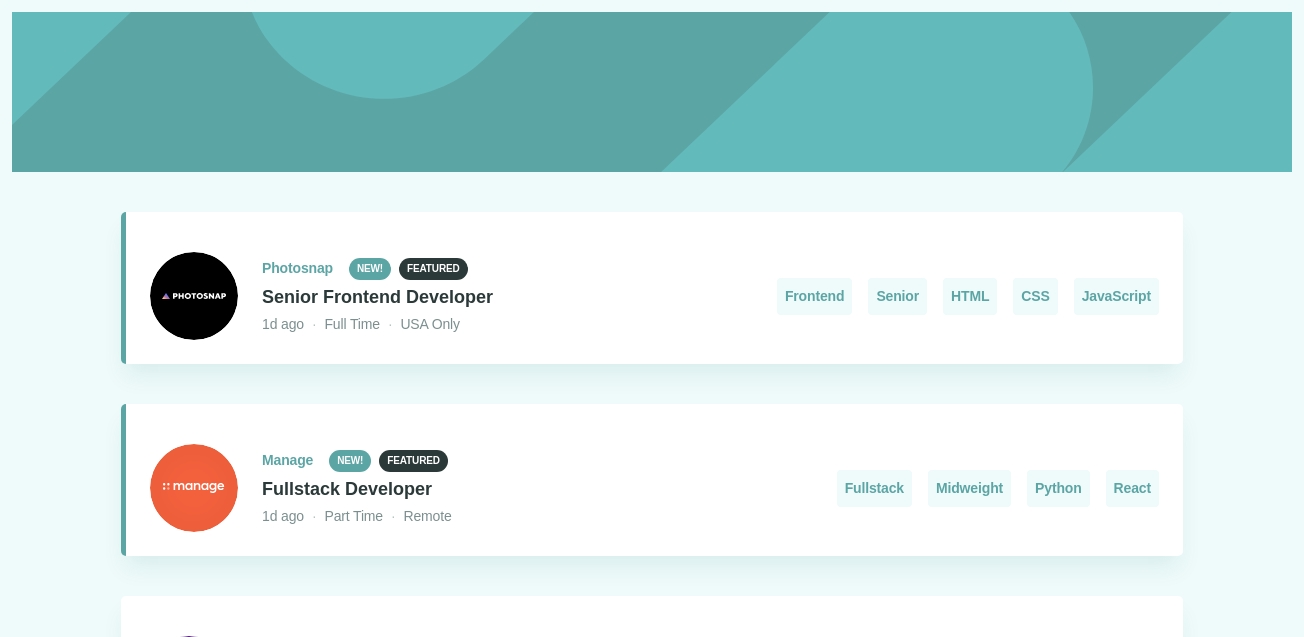
Job Listings App › shows multiple filter chips in the filter bar
Click the button "Frontend" in the row of "Senior Frontend Developer".
click(815, 297)  # box 777,278 -> 853,315
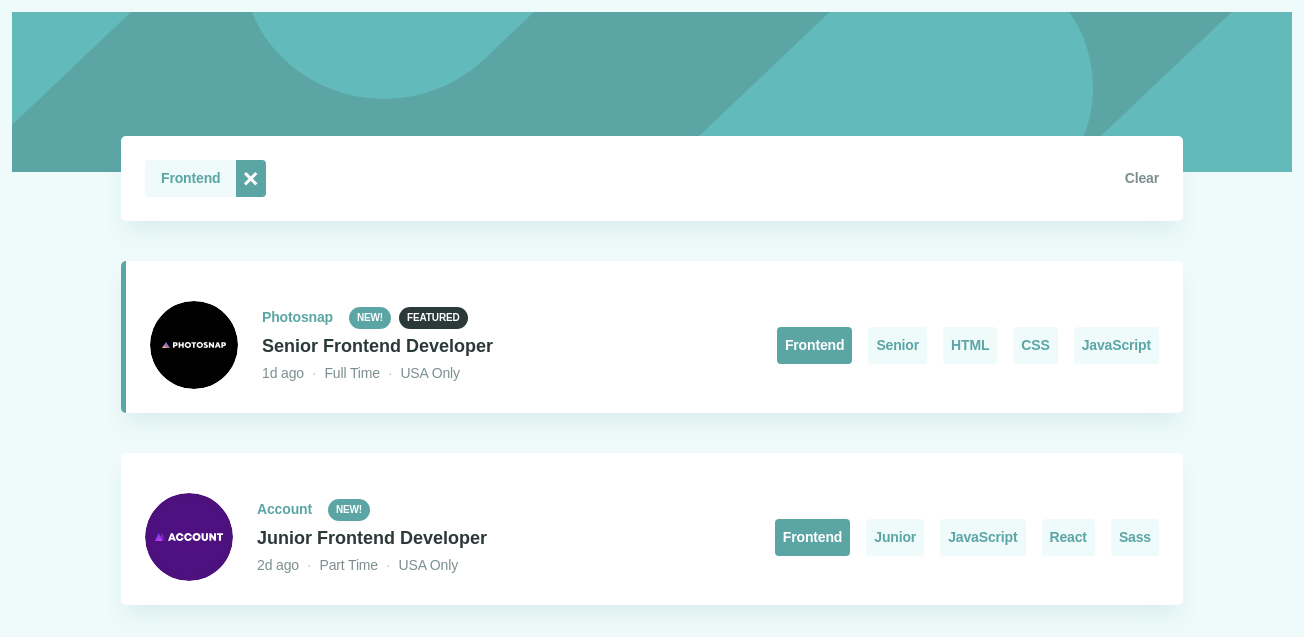
Click the button "Senior".
click(898, 346)  # box 868,327 -> 927,364
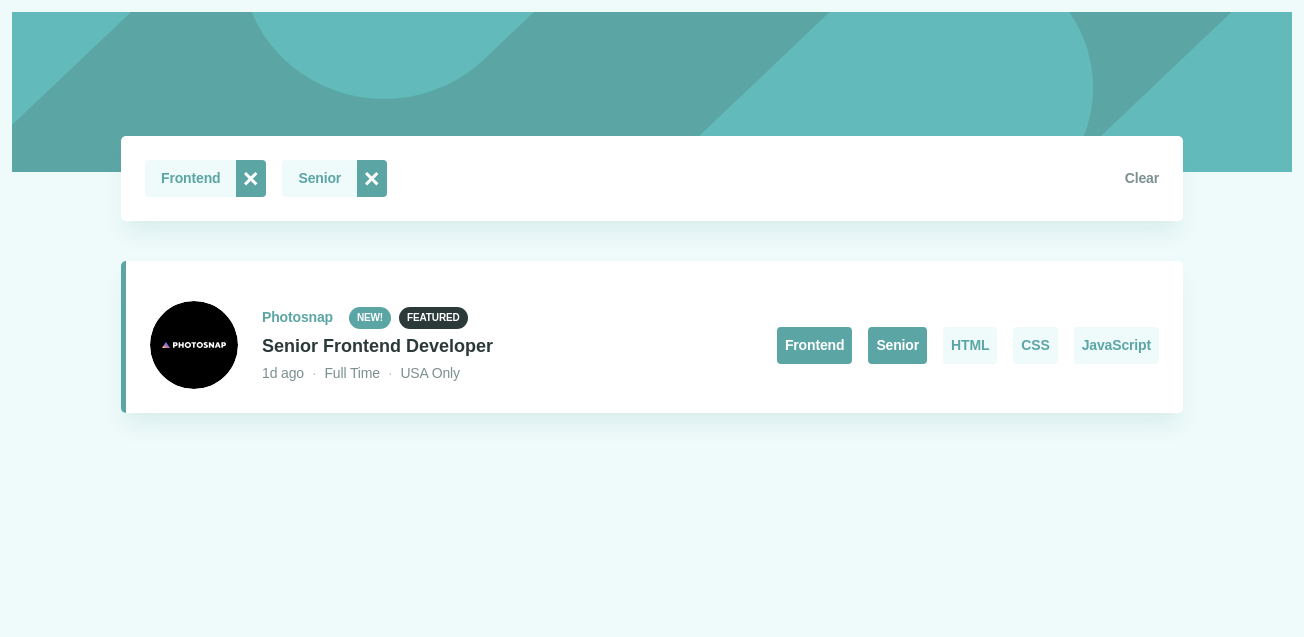
Expected: the text with class "filter-bar__filters" reads "Frontend", 161,170 -> 220,186
Expected: the number of elements with class "filter__label" is 2, 145,160 -> 236,197; 282,160 -> 357,197
Expected: the text with class "filter-bar__filters" reads "Senior", 298,170 -> 341,186
